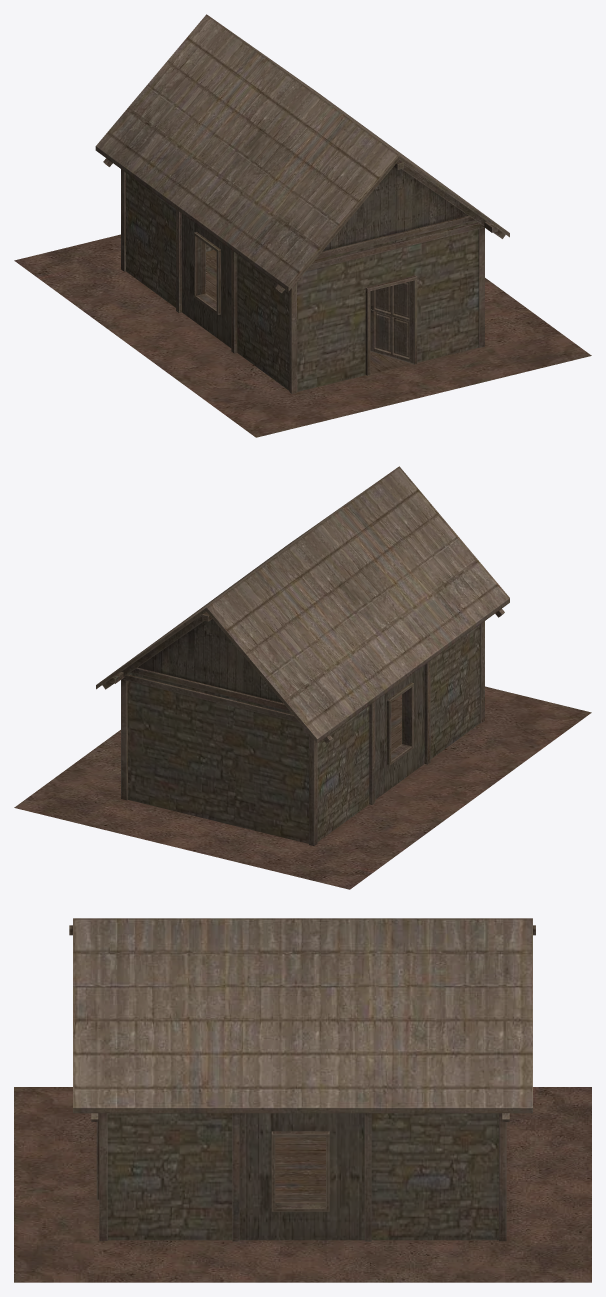
The model's file is house_cottage.glb.
3 views of the same model, one above another, from view 1: azimuth 30°, elevation 25°; view 2: azimuth 150°, elevation 25°; view 3: azimuth 270°, elevation 25° (orthographic). The views are drawn at different scales.
Visible parts, largest first — view 1: Wooden_House_sub_House, Wooden_House_sub_Wood; view 2: Wooden_House_sub_House, Wooden_House_sub_Wood; view 3: Wooden_House_sub_House, Wooden_House_sub_Wood.
Part boxes in pixels (x1=…): Wooden_House_sub_House: x1=14, y1=173, x2=591, y2=437; Wooden_House_sub_Wood: x1=95, y1=14, x2=509, y2=393; Wooden_House_sub_House: x1=14, y1=625, x2=591, y2=889; Wooden_House_sub_Wood: x1=96, y1=466, x2=509, y2=846; Wooden_House_sub_House: x1=14, y1=1087, x2=591, y2=1282; Wooden_House_sub_Wood: x1=69, y1=918, x2=535, y2=1241.
Size of the model in its own units: 8168 by 5217 by 10199.
Materials: 2 (2 with a texture image).
